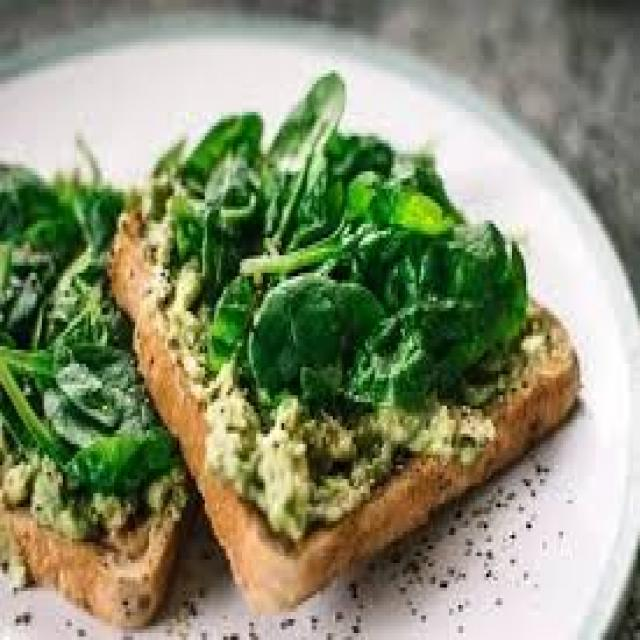organic waste: (105, 133, 580, 608), (0, 178, 195, 622), (0, 157, 116, 482), (235, 164, 449, 280), (356, 287, 514, 409), (205, 364, 319, 532), (0, 430, 163, 539), (389, 217, 521, 350), (253, 70, 344, 238), (249, 283, 377, 402), (142, 143, 258, 266), (74, 364, 168, 504), (175, 248, 249, 378), (182, 116, 258, 207), (386, 140, 468, 220), (316, 122, 396, 175)
